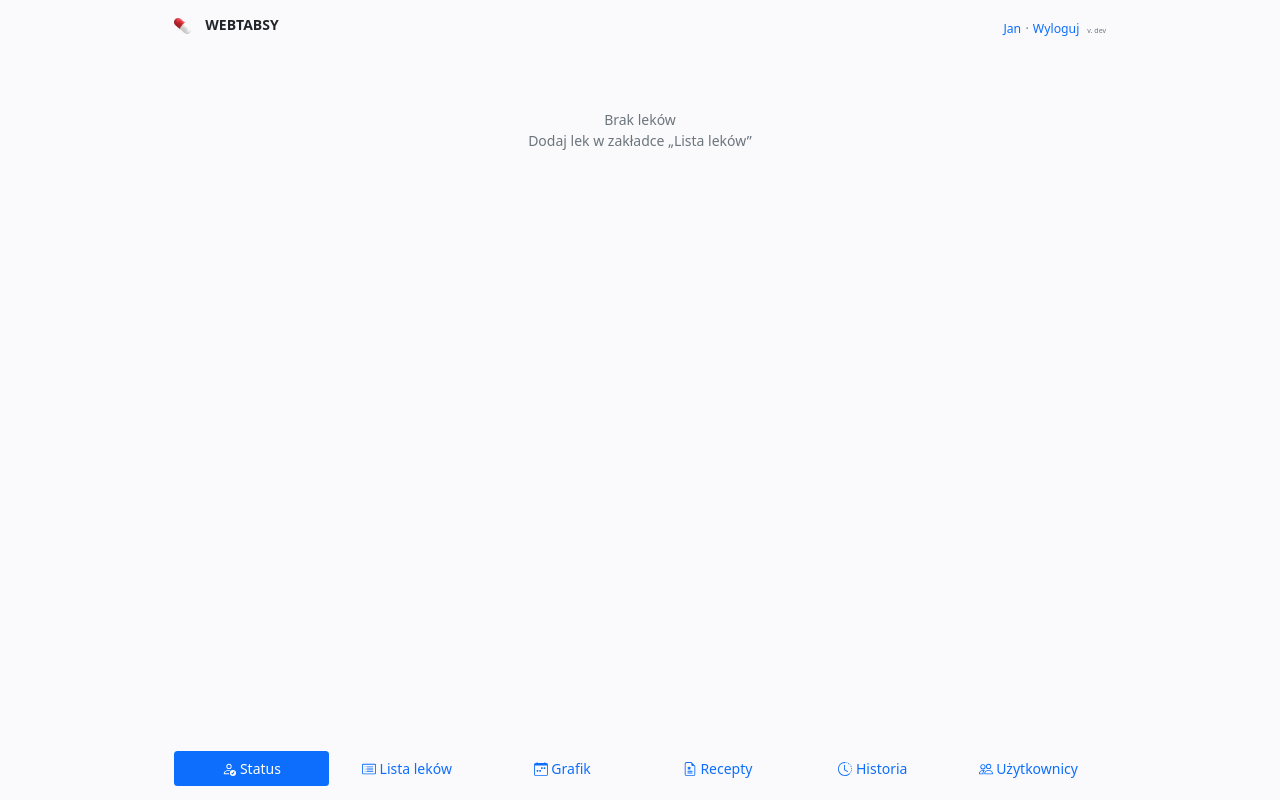
Test case: lets the user change their own name from the header
The width and height of the screenshot is (1280, 800).
Click the button "Jan" at (1012, 29), box [1002, 19, 1022, 39]
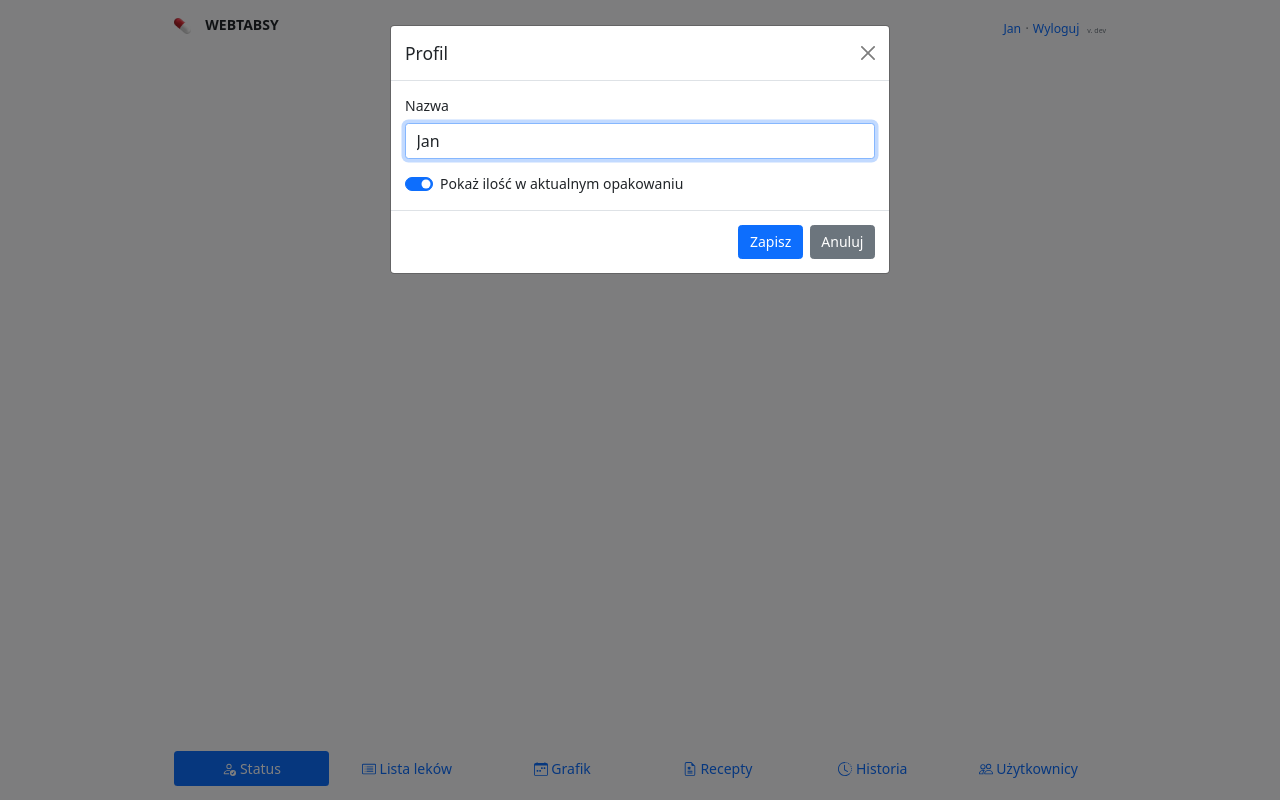
Replace the text in the field labelled "Nazwa" with "  Jan Kowalski " at (640, 141), box [405, 123, 875, 159]
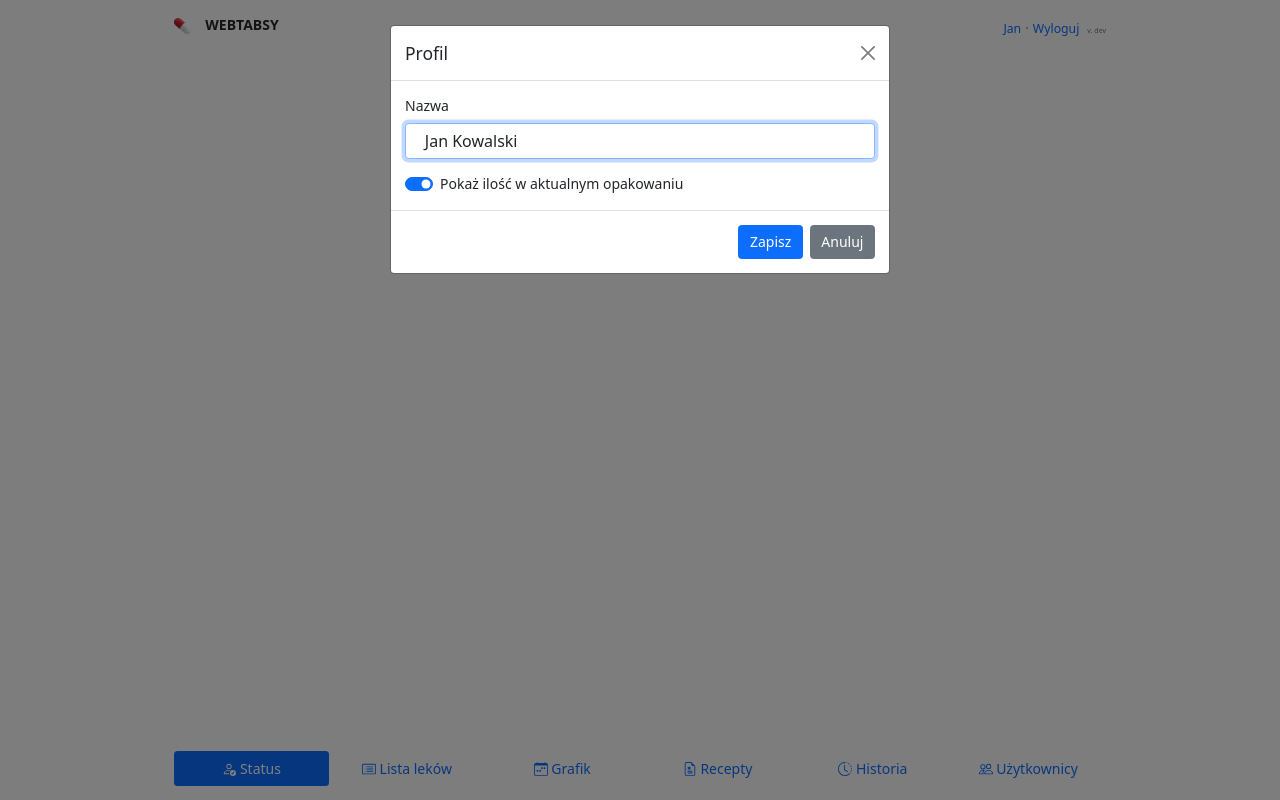
Click the button "Zapisz" at (771, 242), box [738, 225, 803, 258]
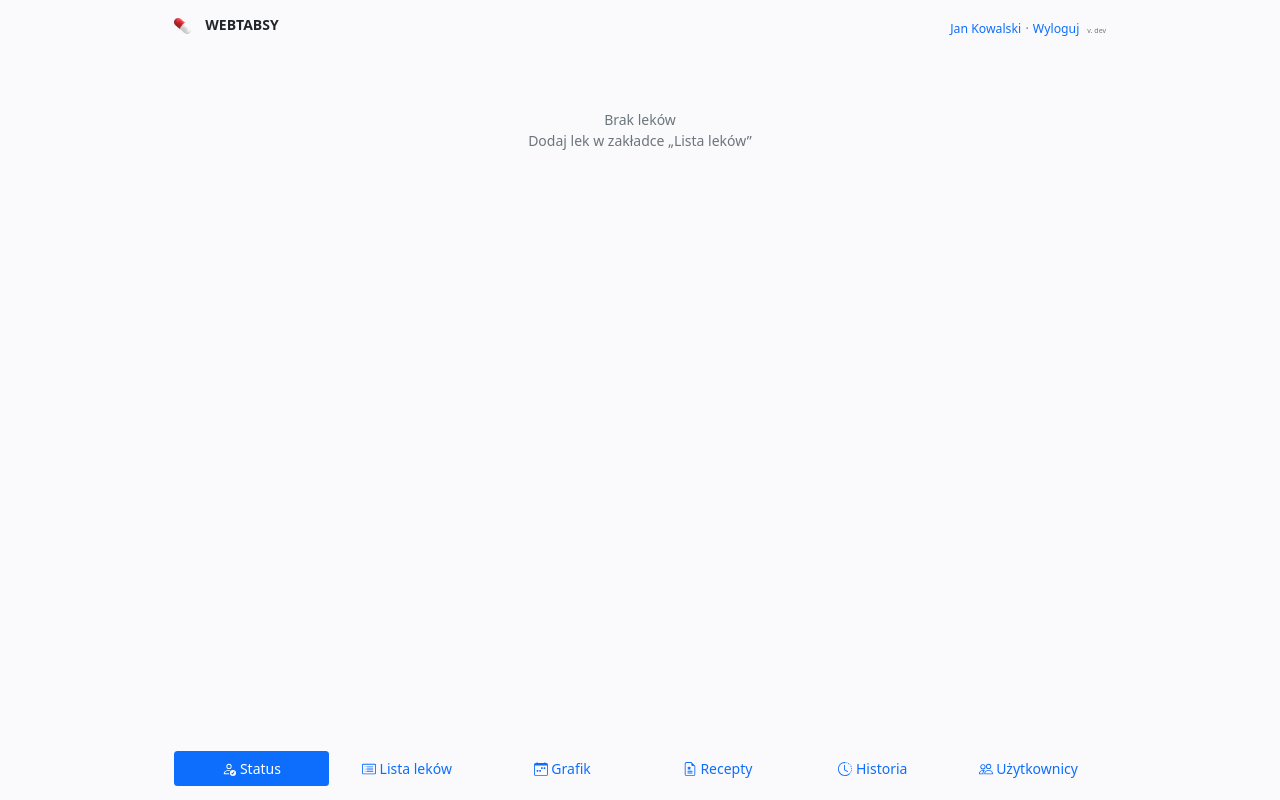
expect the button "Jan Kowalski" is shown: met, box [949, 19, 1022, 39]
